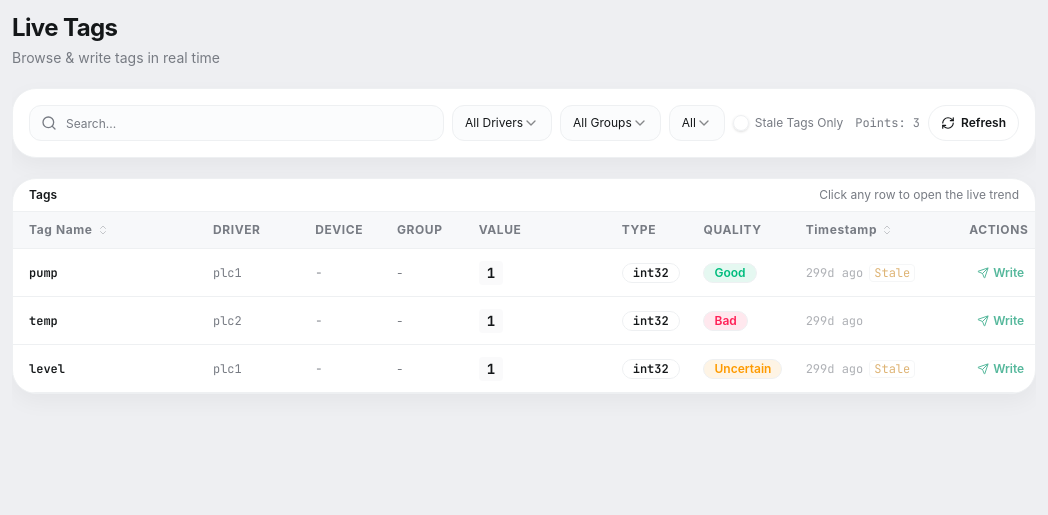
Test case: TagExplorerPage — snapshot discovery › a refresh that finds backend-added tags surfaces the discovery notice
This screenshot has width=1048, height=515.
Expected: the text "Points: 3" is shown, [855,115,920,131]
What coordinates should you click on to do the following:
click the button "Refresh"
I would click on:
 (974, 123)
Its box is [928,105,1019,141].
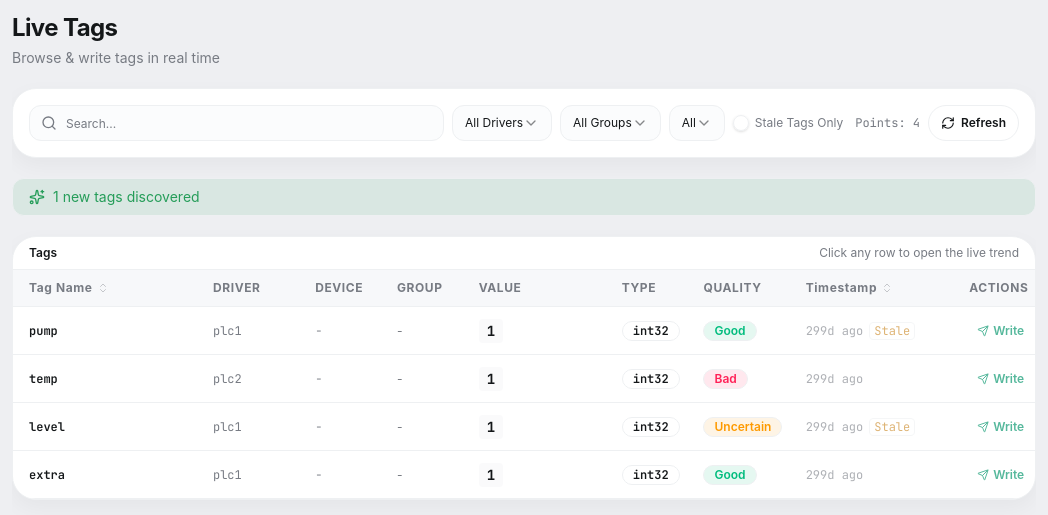
Now the text "1 new tags discovered" is shown, box [53,187,200,207]
Now the text "Points: 4" is shown, box [855,115,920,131]
